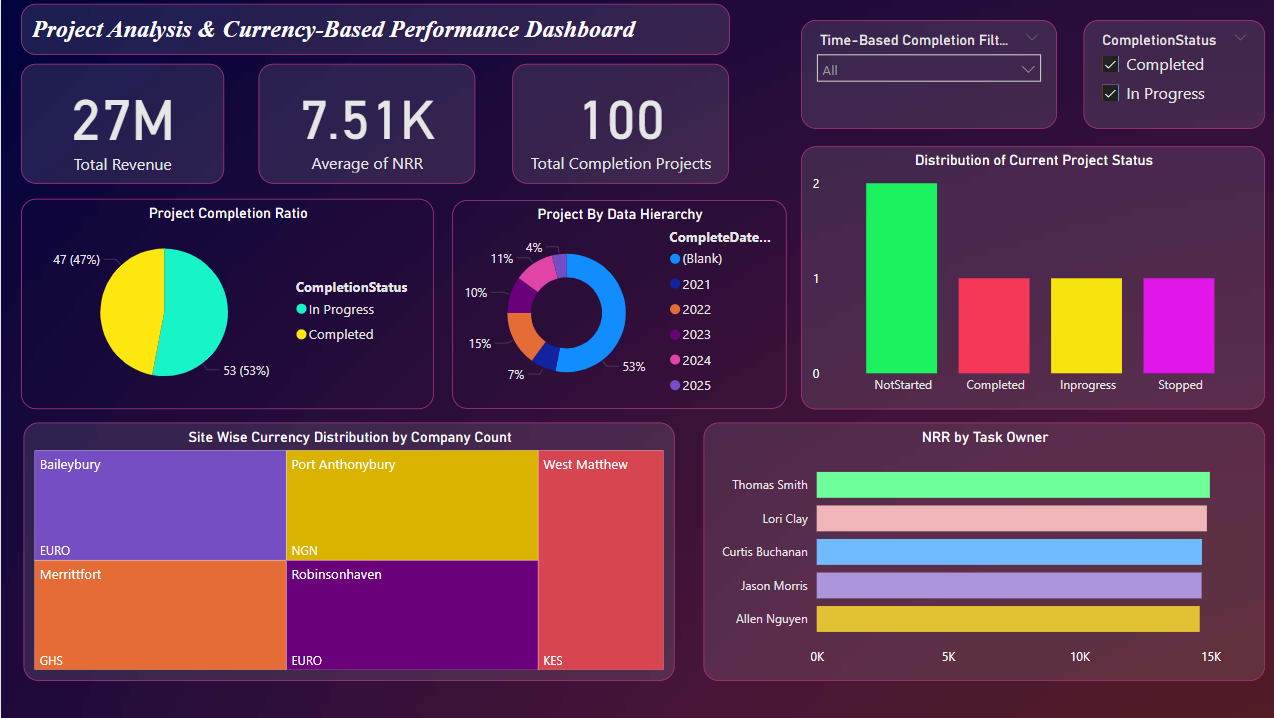

The dashboard page shown, as its layout file describes it:
{"tool":"powerbi","page":{"name":"Page 1","canvas":[1280,720],"ordinal":0},"visuals":[{"type":"textbox","box":[20,4.3,708.6,51.4],"z":0},{"type":"barChart","title":" NRR by Task Owner","fields":{"Category":["Sheet1.Task Owner"],"Y":["Sheet1.NRR"]},"box":[702.9,422.9,561.4,258.6],"z":1000},{"type":"pieChart","title":"Project Completion Ratio","fields":{"Y":["Sheet1.Company"],"Category":["Sheet1.CompletionStatus"]},"box":[20,198.6,412.9,210],"z":2000},{"type":"clusteredColumnChart","title":"Distribution of Current Project Status","fields":{"Category":["Sheet1.WorkStatus"],"Y":["Sheet1.Company"]},"box":[800,145.7,464.3,262.9],"z":3000},{"type":"treemap","title":"Site Wise Currency Distribution by Company Count","fields":{"Group":["Sheet1.Site Name"],"Values":["Sheet1.Company"],"Details":["Sheet1.Currency"]},"box":[22.9,422.9,651.4,258.6],"z":4000},{"type":"card","fields":{"Values":["Sheet1.RecurringRevenue"]},"box":[20,64.3,202.9,120],"z":5000},{"type":"card","fields":{"Values":["Sheet1.NRR"]},"box":[257.1,64.3,217.1,120],"z":6000},{"type":"card","fields":{"Values":["Sheet1.CompletionStatus"]},"box":[511.4,64.3,217.1,120],"z":7000},{"type":"slicer","fields":{"Values":["Sheet1.CompletionStatus"]},"box":[1082.9,20,181.4,108.6],"z":8000},{"type":"slicer","fields":{"Values":["Sheet1.CompleteDate.Variation.Date Hierarchy.Year","Sheet1.CompleteDate.Variation.Date Hierarchy.Quarter","Sheet1.CompleteDate.Variation.Date Hierarchy.Month","Sheet1.CompleteDate.Variation.Date Hierarchy.Day"]},"box":[800,20,255.7,108.6],"z":9000},{"type":"donutChart","title":"Project By Data Hierarchy","fields":{"Y":["Sheet1.Company"],"Category":["Sheet1.CompleteDate.Variation.Date Hierarchy.Year","Sheet1.CompleteDate.Variation.Date Hierarchy.Quarter","Sheet1.CompleteDate.Variation.Date Hierarchy.Month","Sheet1.CompleteDate.Variation.Date Hierarchy.Day"]},"box":[451.4,200,334.3,208.6],"z":10000}]}

Visuals, with their boxes in screenshot pixels (x1, y1, x2, y2), scaled from the page's 1280x720 canvas onto the 1274x718 screenshot:
textbox: box=[20, 4, 725, 56]
" NRR by Task Owner" barChart: box=[700, 422, 1258, 680]
"Project Completion Ratio" pieChart: box=[20, 198, 431, 407]
"Distribution of Current Project Status" clusteredColumnChart: box=[796, 145, 1258, 407]
"Site Wise Currency Distribution by Company Count" treemap: box=[23, 422, 671, 680]
card - Sheet1.RecurringRevenue: box=[20, 64, 222, 184]
card - Sheet1.NRR: box=[256, 64, 472, 184]
card - Sheet1.CompletionStatus: box=[509, 64, 725, 184]
slicer - Sheet1.CompletionStatus: box=[1078, 20, 1258, 128]
slicer - Sheet1.CompleteDate.Variation.Date Hierarchy.Year x Sheet1.CompleteDate.Variation.Date Hierarchy.Quarter: box=[796, 20, 1051, 128]
"Project By Data Hierarchy" donutChart: box=[449, 199, 782, 407]
